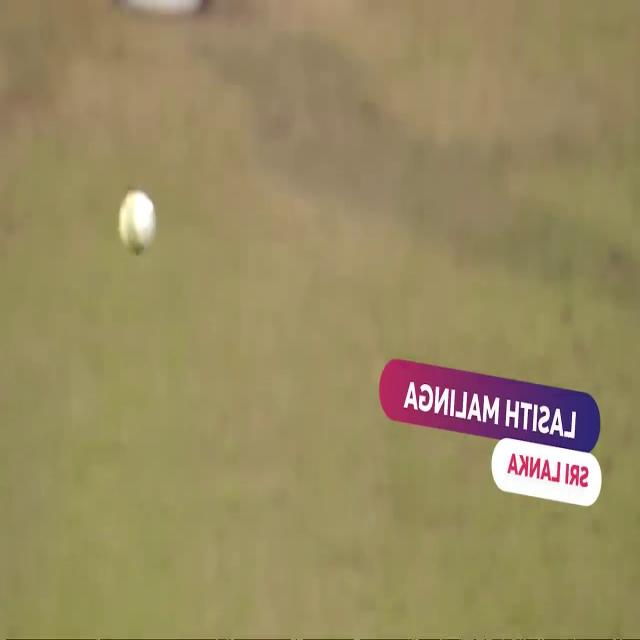ball: (118, 190, 154, 258)
